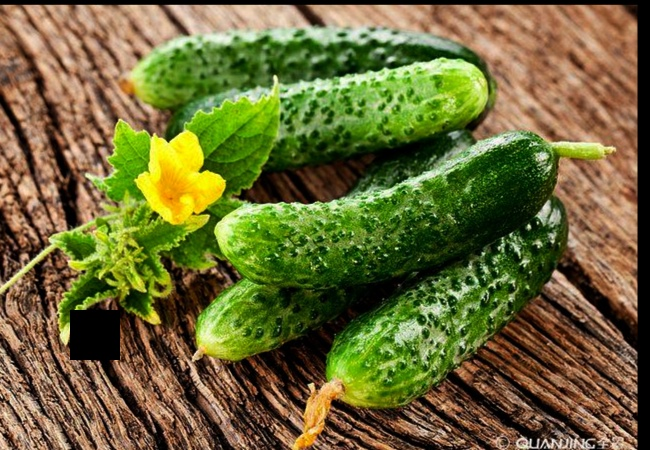cucumber: (340, 193, 564, 397), (221, 141, 549, 280)
cucumber_plant: (64, 77, 275, 317)
